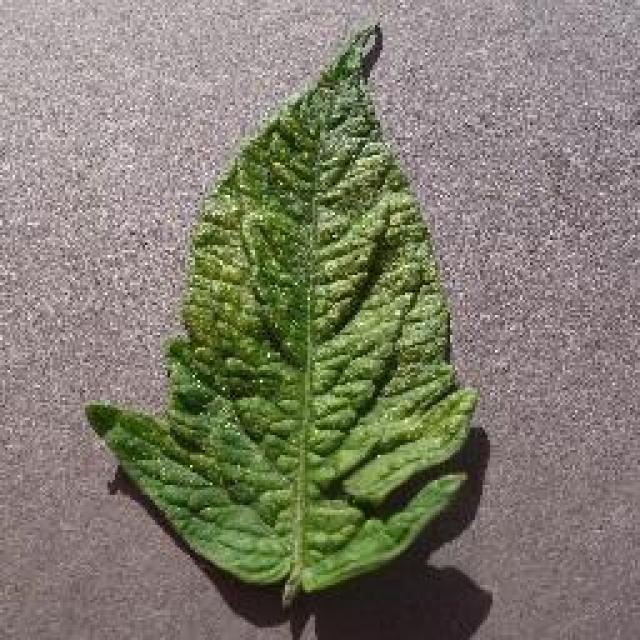Tomato spider mites leaf: (83, 27, 477, 586)
